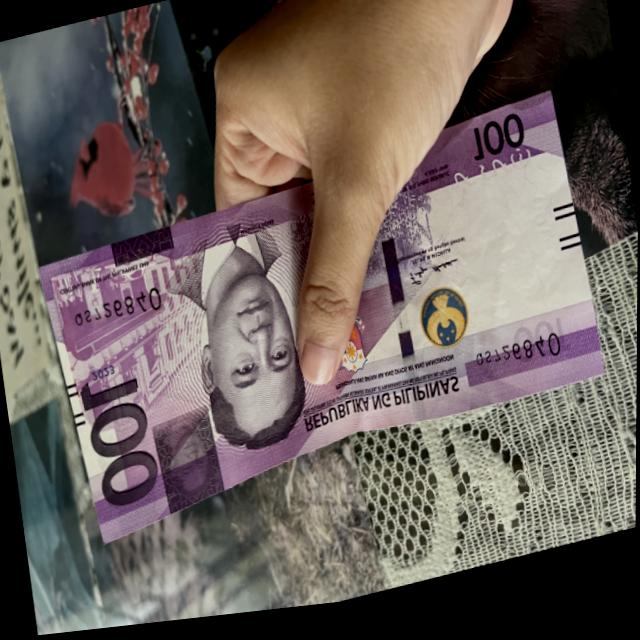concealed_value: (151, 409, 225, 518)
security_thread: (378, 218, 427, 433)
see_through_mark: (446, 154, 539, 204)
value: (75, 368, 165, 521), (465, 116, 529, 178)
value_watermark: (527, 204, 555, 256)
watermark: (446, 177, 567, 352)
